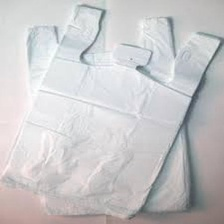plastic_bag: (0, 1, 224, 220), (20, 10, 197, 216)
